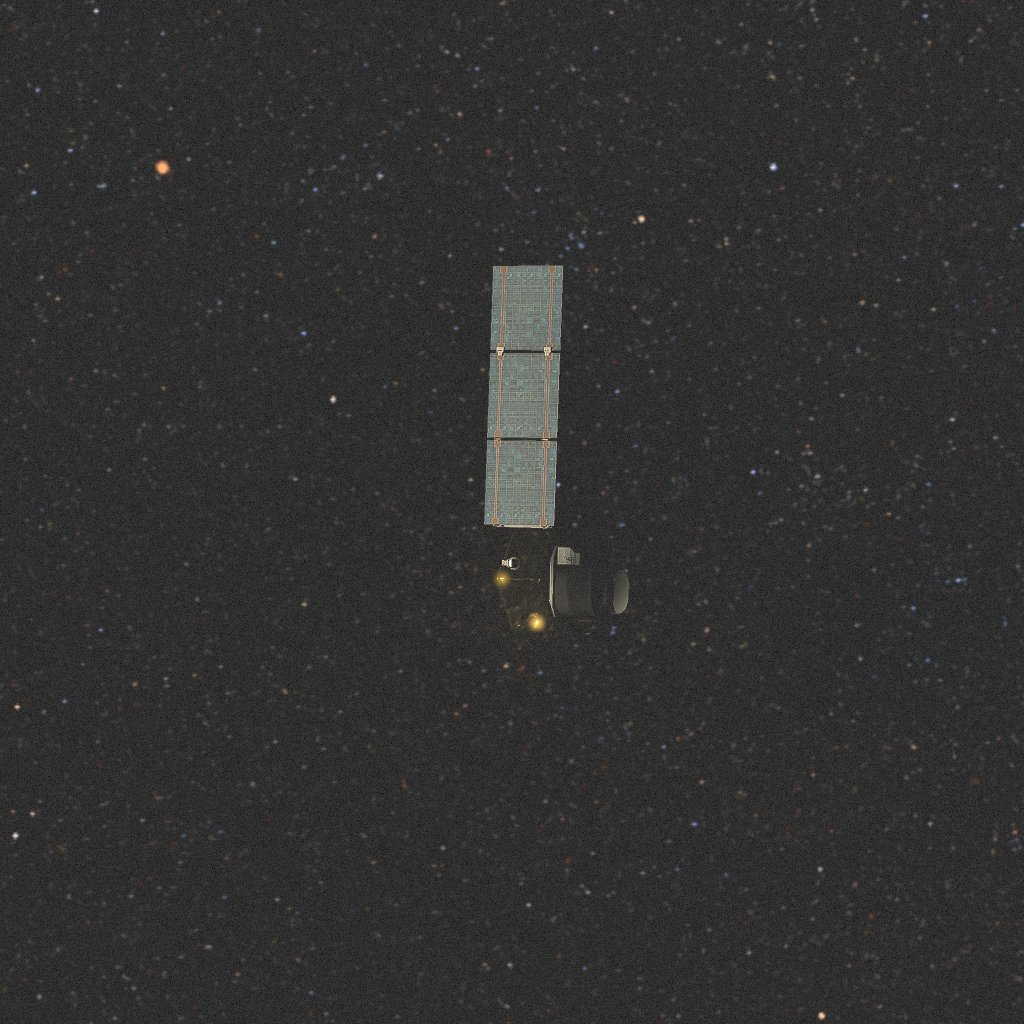earth_observation_sat_1: (484, 266, 633, 633)
